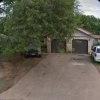Tree: (4, 0, 77, 63)
